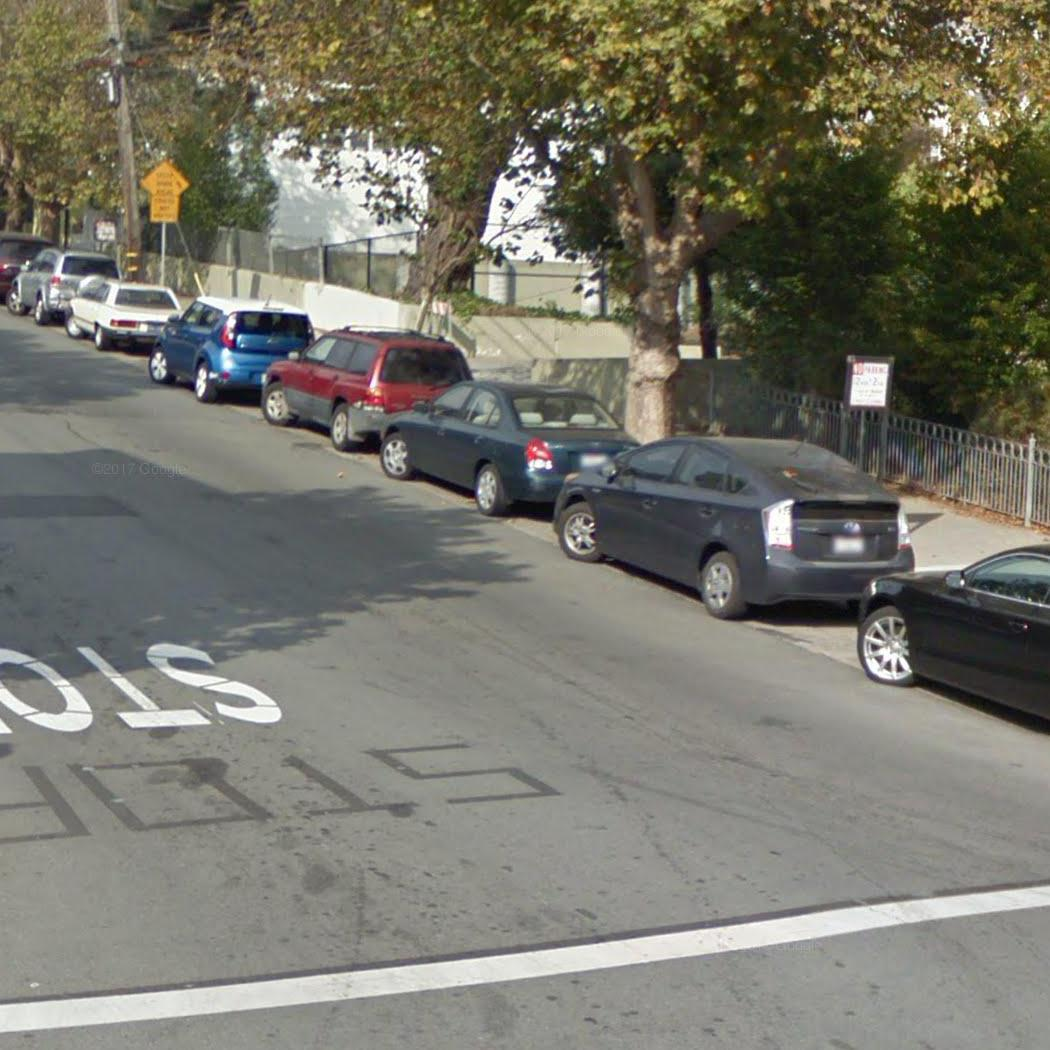No Parking: (847, 357, 890, 407)
